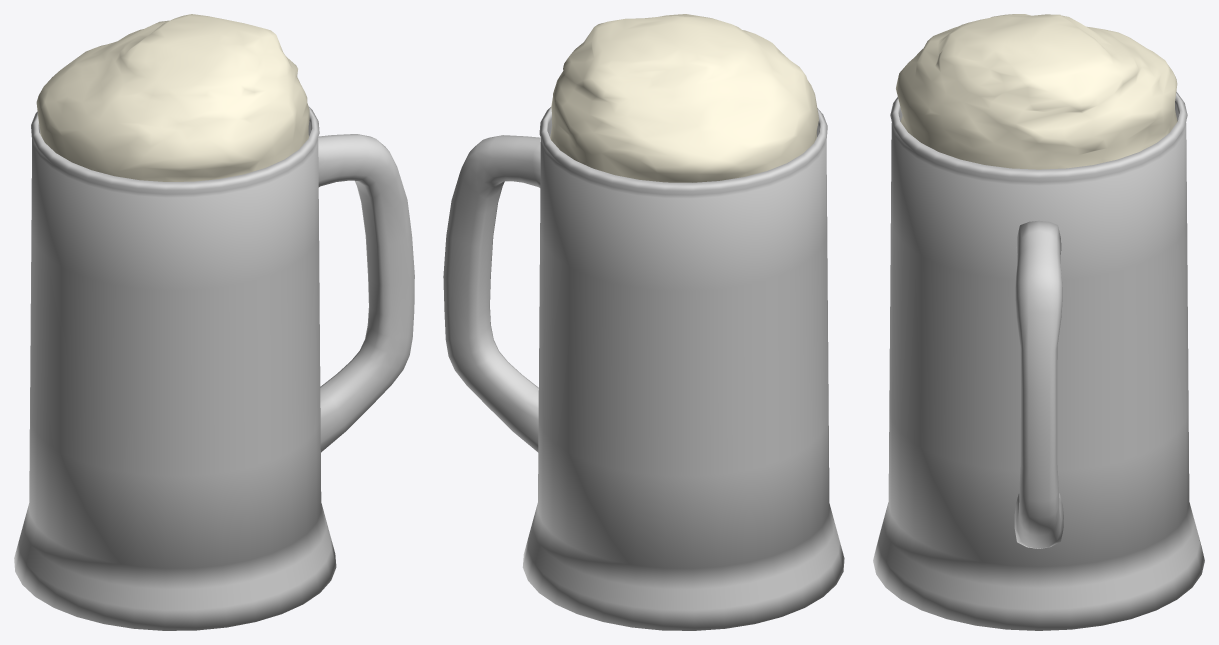
The model's file is stein.glb.
3 renders of one model, left to right at view 1: azimuth 30°, elevation 25°; view 2: azimuth 150°, elevation 25°; view 3: azimuth 270°, elevation 25°, orthographic. The views are drawn at different scales.
Visible parts, largest first — view 1: mug, foam, handle; view 2: mug, foam, handle; view 3: mug, foam, handle.
Boxes of the visible parts, x1,y1,x2,y2 form: mug: [14, 107, 336, 630]; foam: [36, 14, 309, 181]; handle: [318, 134, 414, 452]; mug: [522, 107, 844, 630]; foam: [550, 14, 818, 182]; handle: [443, 135, 540, 452]; mug: [873, 91, 1204, 630]; foam: [896, 14, 1177, 169]; handle: [1014, 220, 1063, 548].
Bounding box in the file's own units: 0.2031 × 0.2709 × 0.1516.
